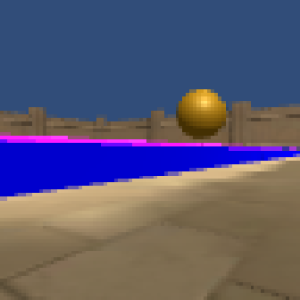goodGoalMulti: (176, 88, 226, 141)
platform: (2, 146, 290, 197)
ramp: (1, 133, 144, 142)
